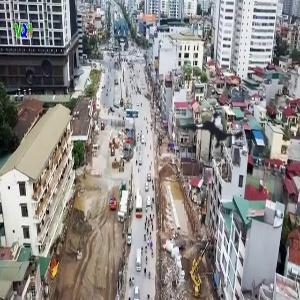drone: (171, 81, 264, 174)
